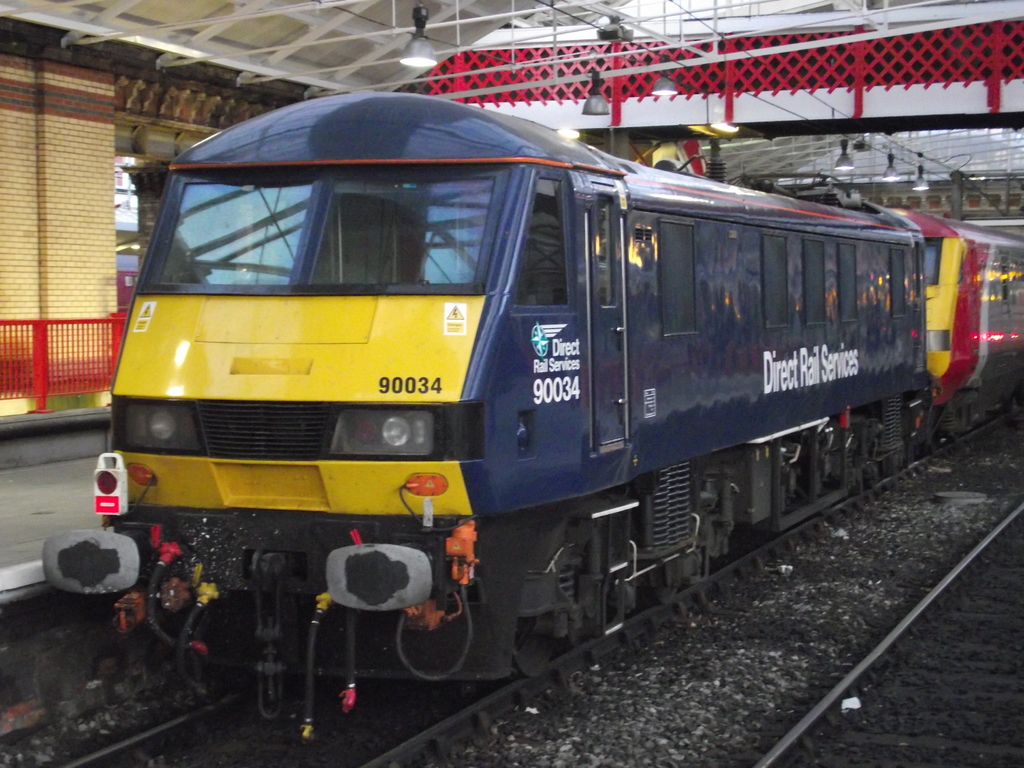train: (43, 92, 932, 743)
